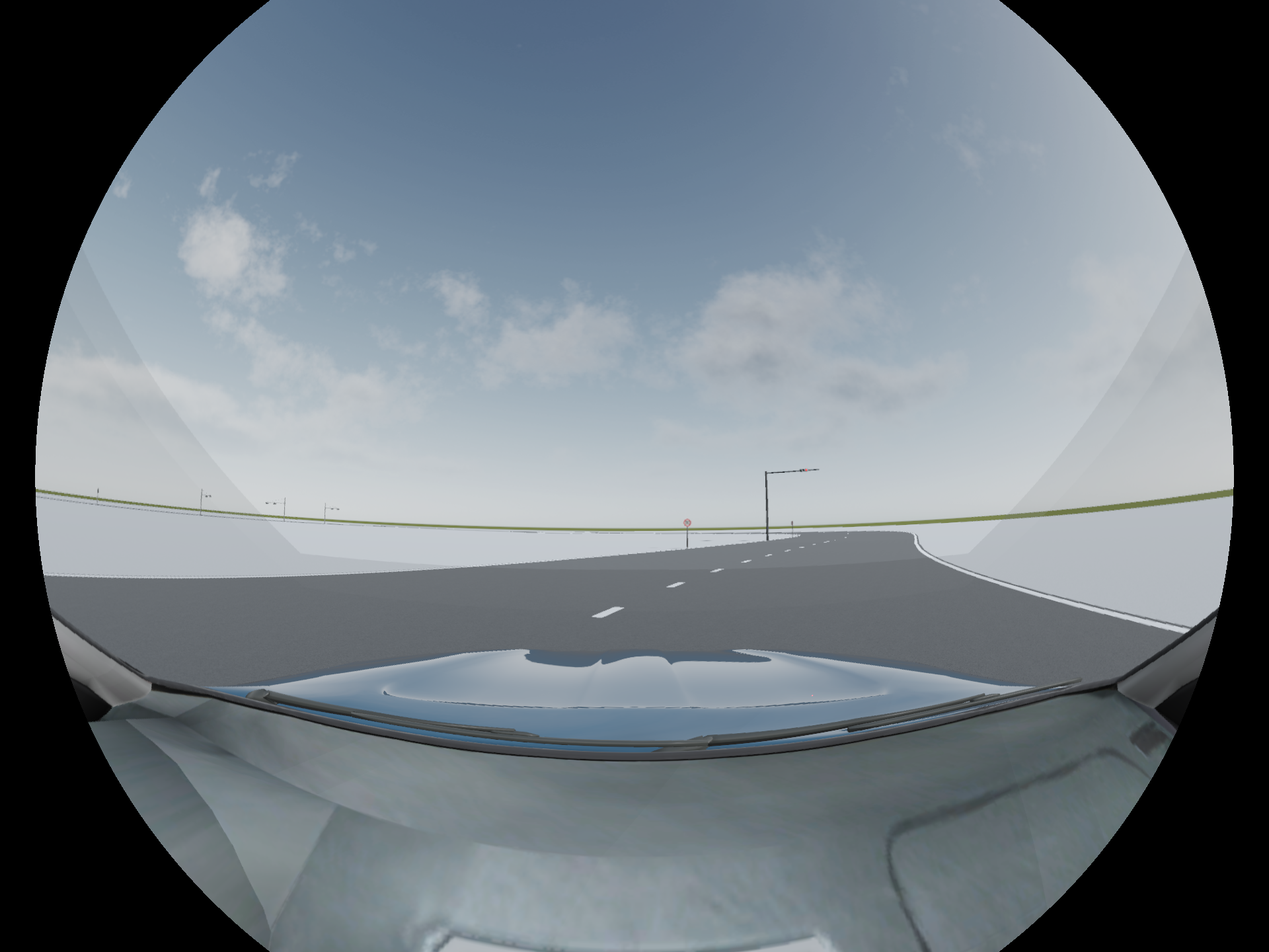Red Light: (799, 468, 808, 473)
